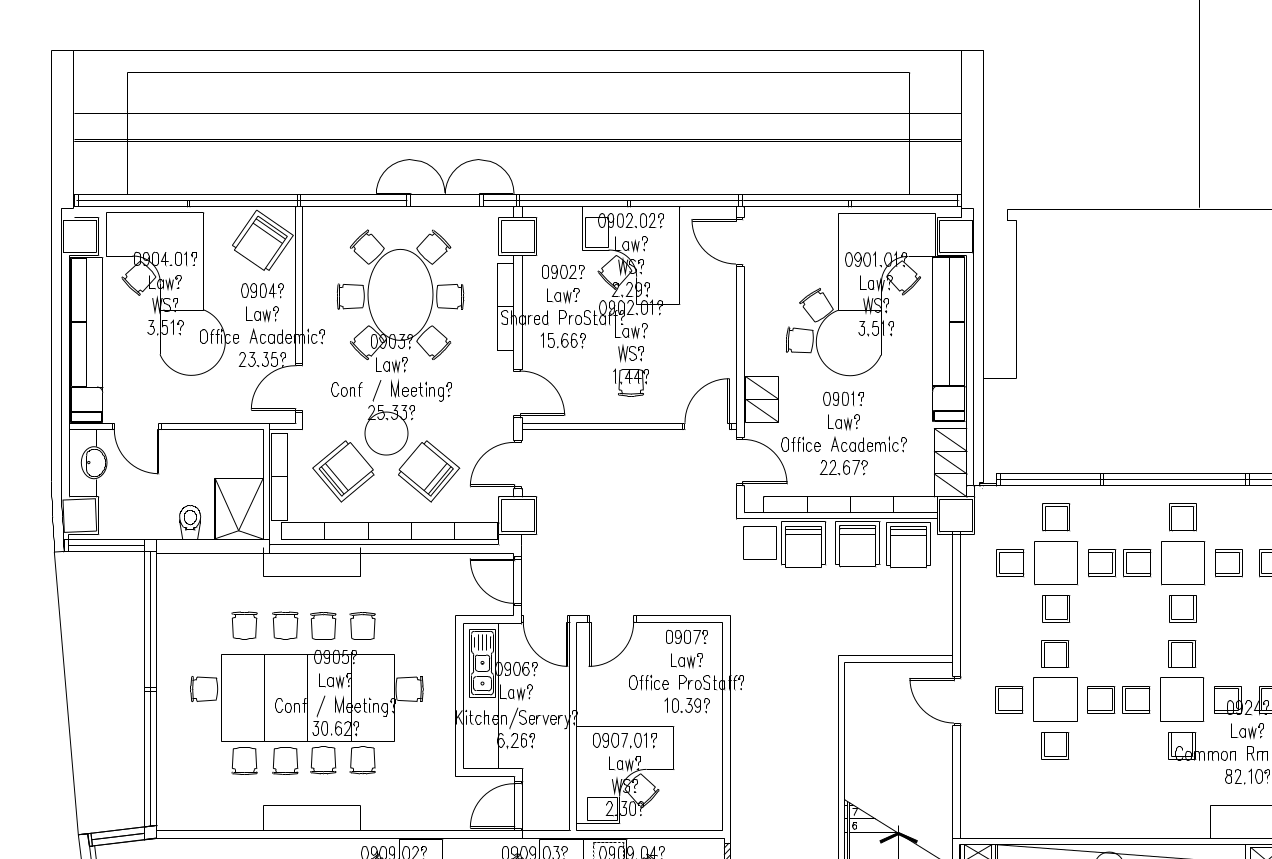door: (676, 376, 733, 433), (681, 216, 738, 273), (734, 433, 791, 490), (582, 615, 639, 672), (512, 612, 569, 669), (458, 777, 516, 831), (894, 675, 952, 729), (109, 424, 163, 474), (244, 365, 298, 415), (513, 368, 567, 418), (464, 440, 518, 490)
